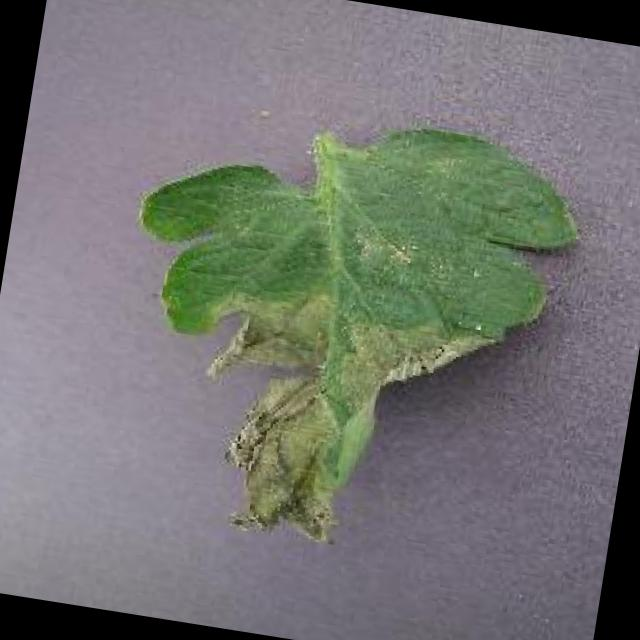Tomato_Late_Blight: (174, 294, 482, 563)
